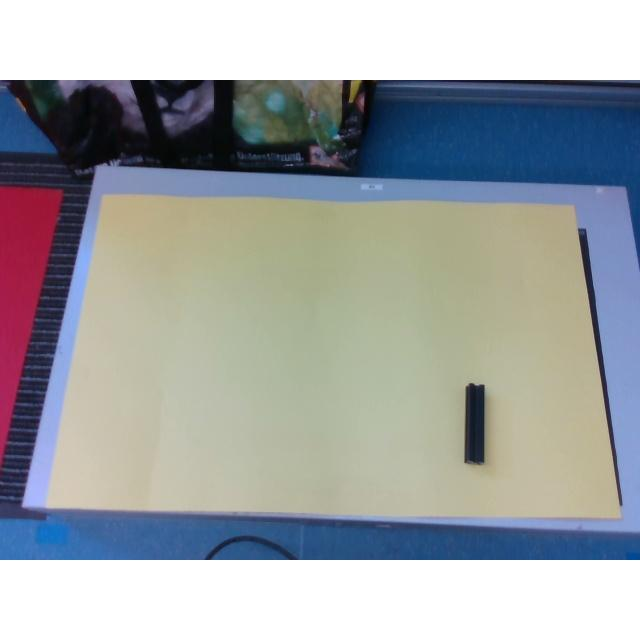F20_20_B: (464, 382, 484, 462)
